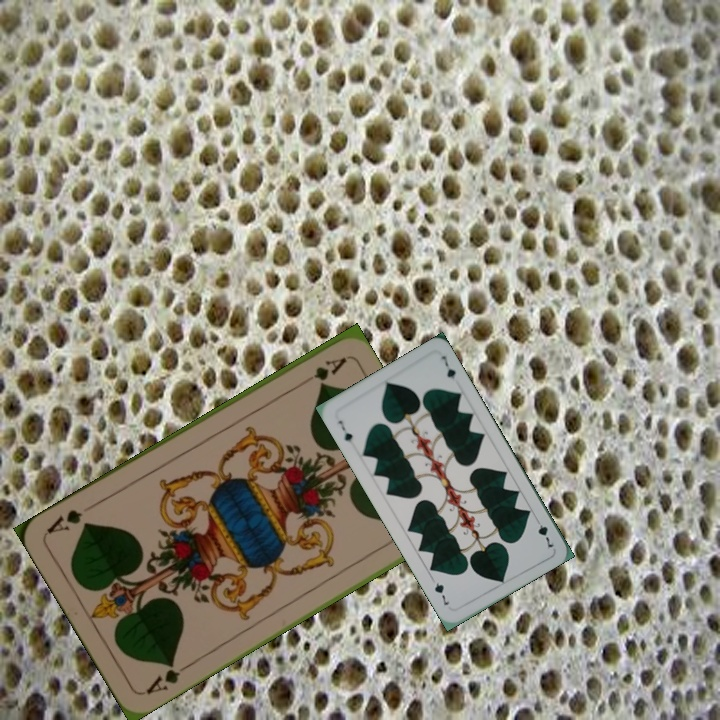G7: (531, 513, 556, 550), (334, 416, 355, 445)
GA: (294, 353, 349, 390), (142, 658, 193, 697)
